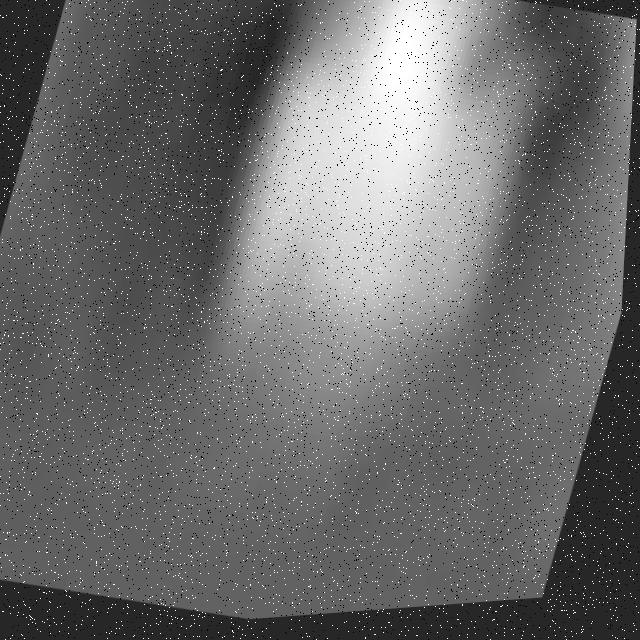person: (144, 1, 571, 526), (519, 27, 638, 457)
